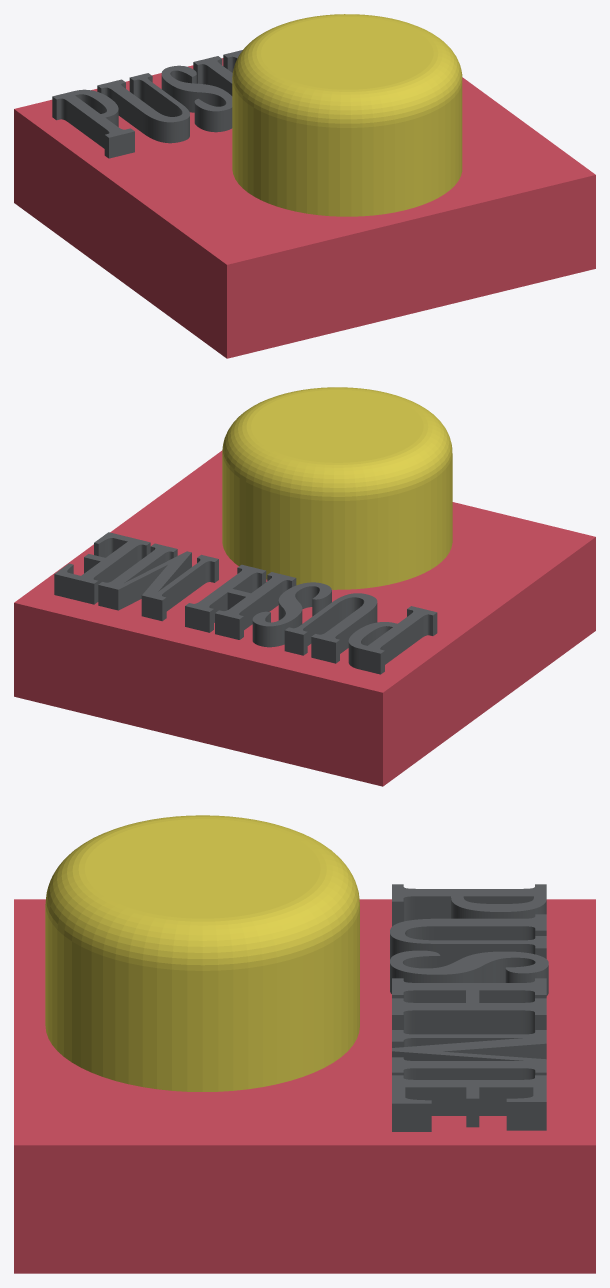
File: Button.glb
3 renders of one model, top to bottom at view 1: azimuth 30°, elevation 25°; view 2: azimuth 150°, elevation 25°; view 3: azimuth 270°, elevation 25°, orthographic. The views are drawn at different scales.
Visible parts, largest first — view 1: Mesh_Mesh_head_geo.001_lambert2SG.001; view 2: Mesh_Mesh_head_geo.001_lambert2SG.001; view 3: Mesh_Mesh_head_geo.001_lambert2SG.001.
Boxes of the visible parts, left/top/right/bottom form: Mesh_Mesh_head_geo.001_lambert2SG.001: left=14, top=14, right=595, bottom=358; Mesh_Mesh_head_geo.001_lambert2SG.001: left=14, top=387, right=595, bottom=786; Mesh_Mesh_head_geo.001_lambert2SG.001: left=14, top=815, right=595, bottom=1273.
Bounding box in the file's own units: 37 × 20 × 37.
